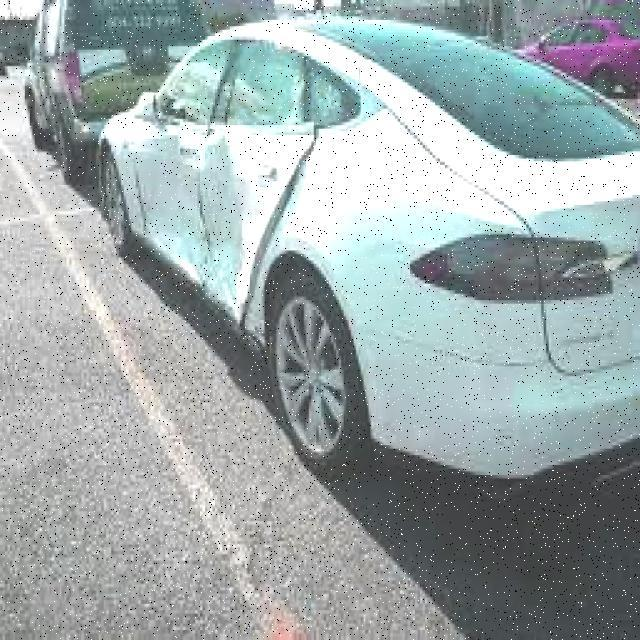car damage: (110, 112, 327, 322)
